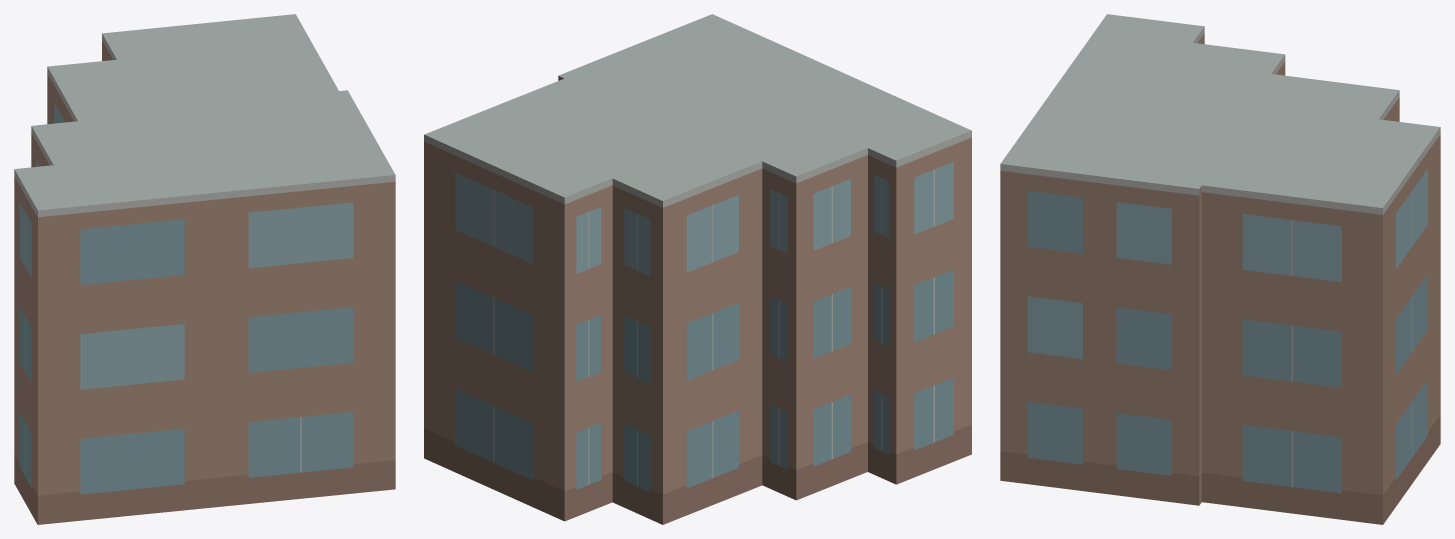
File: survey-upis-32992466.glb
3 views of the same model, side by side, from view 1: azimuth 30°, elevation 25°; view 2: azimuth 150°, elevation 25°; view 3: azimuth 270°, elevation 25° (orthographic). The views are drawn at different scales.
Visible parts, largest first — view 1: survey-upis-32992466.tmp; view 2: survey-upis-32992466.tmp; view 3: survey-upis-32992466.tmp.
Boxes of the visible parts, x1=… form: survey-upis-32992466.tmp: x1=14, y1=14, x2=395, y2=524; survey-upis-32992466.tmp: x1=424, y1=14, x2=971, y2=524; survey-upis-32992466.tmp: x1=1000, y1=14, x2=1440, y2=524.
Size of the model in its own units: 15 by 11.4 by 14.37.
